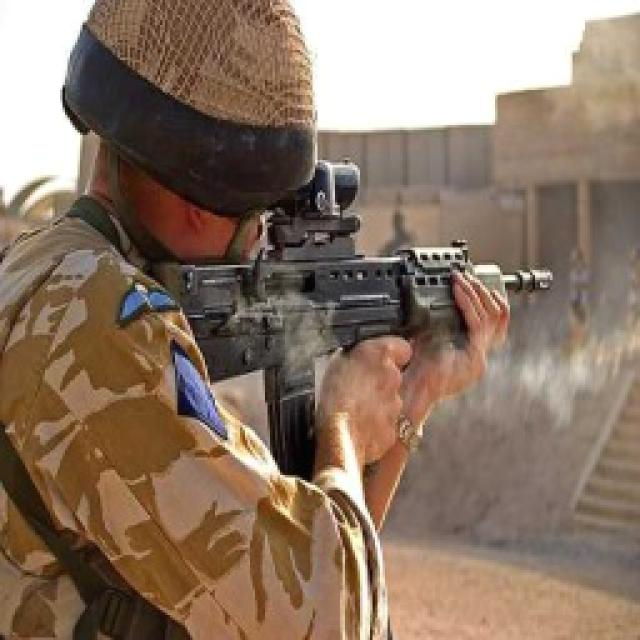long weapon: (136, 170, 561, 452)
